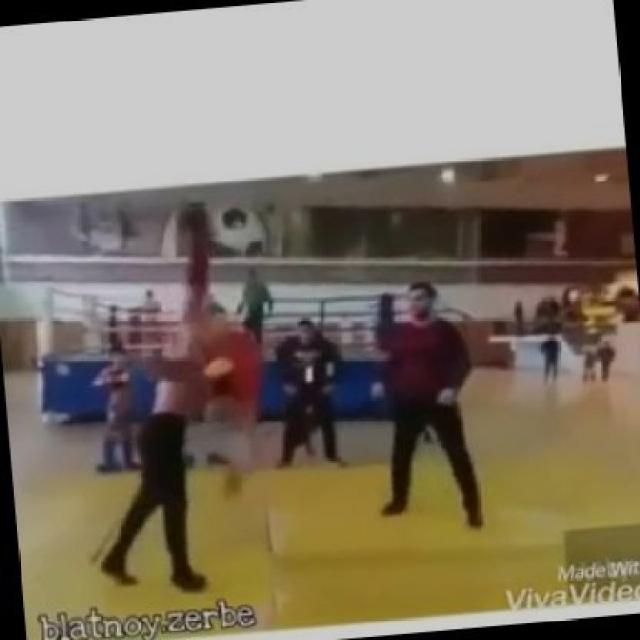non-fight: (102, 313, 232, 602), (369, 269, 485, 537), (269, 311, 345, 474)
